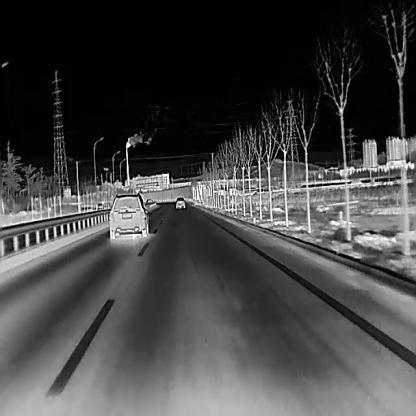car: (108, 192, 149, 240), (174, 196, 185, 209)
